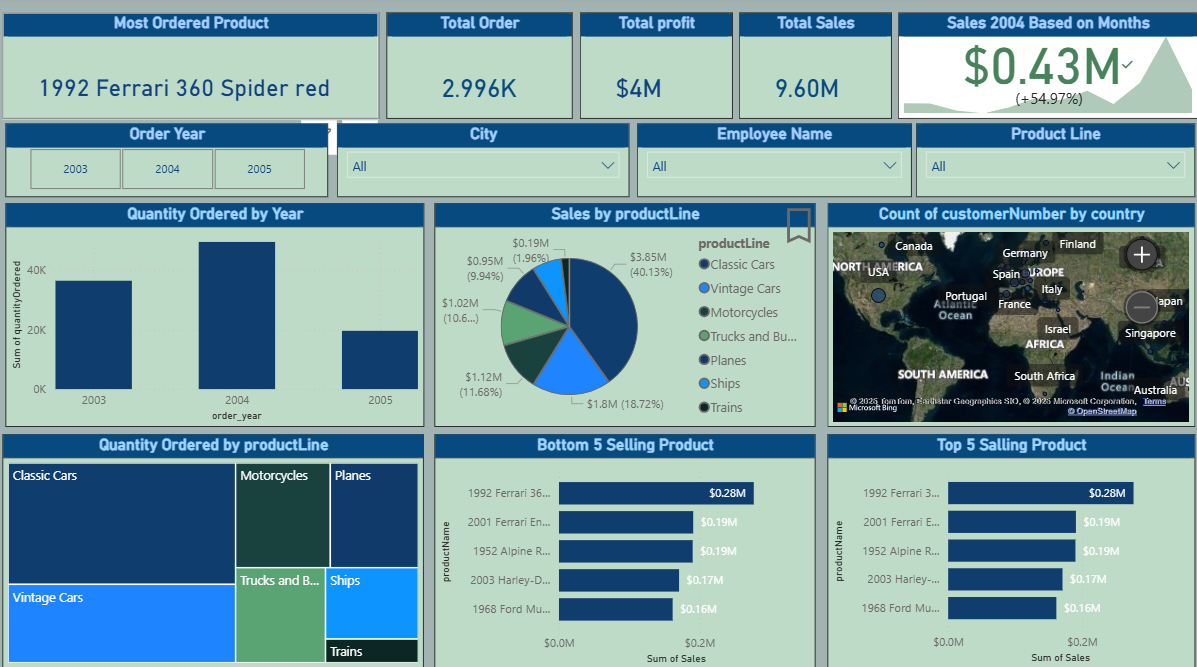

Layout of this report page (visuals, bound fields, positions):
{"tool":"powerbi","page":{"name":"Page 1","canvas":[1280,720],"ordinal":0},"visuals":[{"type":"cardVisual","title":"Most Ordered Product","fields":{"Data":["orders details.MostOrderedProduct"]},"box":[8,17.5,399.2,112.9],"z":0},{"type":"barChart","title":"Top 5 Salling Product","fields":{"Category":["products.productName"],"Y":["orders details.Sales"]},"box":[882.8,464.5,389.7,248.1],"z":1000},{"type":"pieChart","title":"Sales by productLine","fields":{"Category":["productsline.productLine"],"Y":["orders details.Sales"]},"box":[466,219.5,404,237],"z":2000},{"type":"cardVisual","title":"Total Order","fields":{"Data":["orders details.quantityOrdered"]},"box":[415.1,17.5,197.2,112.9],"z":3000},{"type":"kpi","title":"Sales 2004 Based on Months","fields":{"TrendLine":["orders.Month Name"],"Indicator":["orders.sale_2004"],"Goal":["orders.sale_2003"]},"box":[957.5,17.5,318.1,112.9],"z":4000},{"type":"map","fields":{"Category":["customers.country"],"Size":["customers.customerNumber"]},"box":[882.8,219.5,389.7,237],"z":5000},{"type":"cardVisual","title":"Total profit","fields":{"Data":["orders details.total_profit"]},"box":[620.3,17.5,162.2,112.9],"z":6000},{"type":"cardVisual","title":"Total Sales","fields":{"Data":["orders details.Sales"]},"box":[788.9,17.5,162.2,112.9],"z":7000},{"type":"slicer","title":"City","fields":{"Values":["customers.city"]},"box":[362.7,135.2,310.2,77.9],"z":8000},{"type":"treemap","title":"Quantity Ordered by productLine","fields":{"Values":["orders details.quantityOrdered"],"Group":["productsline.productLine"]},"box":[8,464.5,447,248.1],"z":9000},{"type":"clusteredColumnChart","title":"Quantity Ordered by Year","fields":{"Y":["orders details.quantityOrdered"],"Category":["orders.order_year"]},"box":[11.1,219.5,443.8,237],"z":10000},{"type":"slicer","title":"Order Year","fields":{"Values":["orders.order_year"]},"box":[11.1,135.2,342,77.9],"z":11000},{"type":"slicer","title":"Product Line","fields":{"Values":["productsline.productLine"]},"box":[976.6,135.2,295.9,77.9],"z":12000},{"type":"barChart","title":"Bottom 5 Selling Product","fields":{"Category":["products.productName"],"Y":["orders details.Sales"]},"box":[466,464.5,404,249.7],"z":13000},{"type":"slicer","title":"Employee Name","fields":{"Values":["employees.EmpFullName"]},"box":[680.8,135.2,291.1,77.9],"z":14000},{"type":"actionButton","box":[828.7,219.5,54.1,47.7],"z":15000}]}

Visuals, with their boxes in screenshot pixels (x1, y1, x2, y2), scaled from the page's 1280x720 canvas onto the 1197x667 screenshot:
"Most Ordered Product" cardVisual: (left=7, top=16, right=381, bottom=121)
"Top 5 Salling Product" barChart: (left=826, top=430, right=1190, bottom=660)
"Sales by productLine" pieChart: (left=436, top=203, right=814, bottom=423)
"Total Order" cardVisual: (left=388, top=16, right=573, bottom=121)
"Sales 2004 Based on Months" kpi: (left=895, top=16, right=1193, bottom=121)
map - customers.country x customers.customerNumber: (left=826, top=203, right=1190, bottom=423)
"Total profit" cardVisual: (left=580, top=16, right=732, bottom=121)
"Total Sales" cardVisual: (left=738, top=16, right=889, bottom=121)
"City" slicer: (left=339, top=125, right=629, bottom=197)
"Quantity Ordered by productLine" treemap: (left=7, top=430, right=425, bottom=660)
"Quantity Ordered by Year" clusteredColumnChart: (left=10, top=203, right=425, bottom=423)
"Order Year" slicer: (left=10, top=125, right=330, bottom=197)
"Product Line" slicer: (left=913, top=125, right=1190, bottom=197)
"Bottom 5 Selling Product" barChart: (left=436, top=430, right=814, bottom=662)
"Employee Name" slicer: (left=637, top=125, right=909, bottom=197)
actionButton: (left=775, top=203, right=826, bottom=248)
